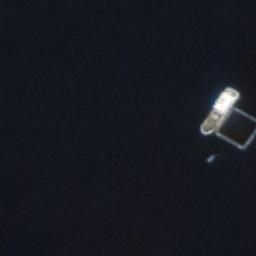square_solid: (212, 103, 256, 154)
